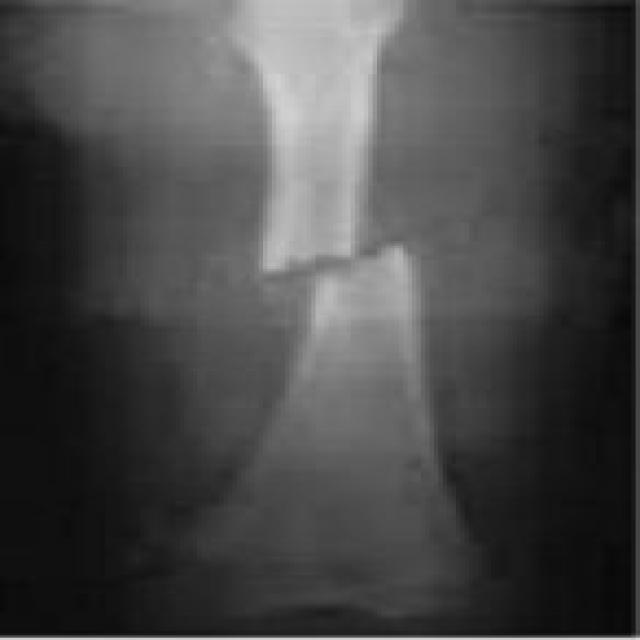Broken: (149, 246, 486, 621), (233, 0, 415, 269)
